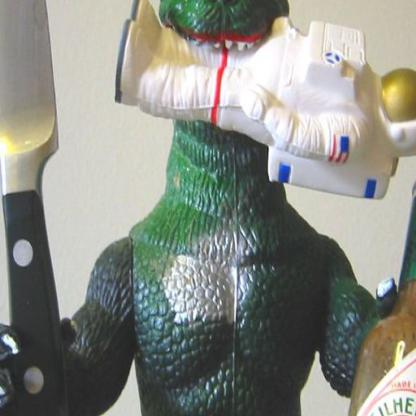knife: (0, 0, 89, 415)
